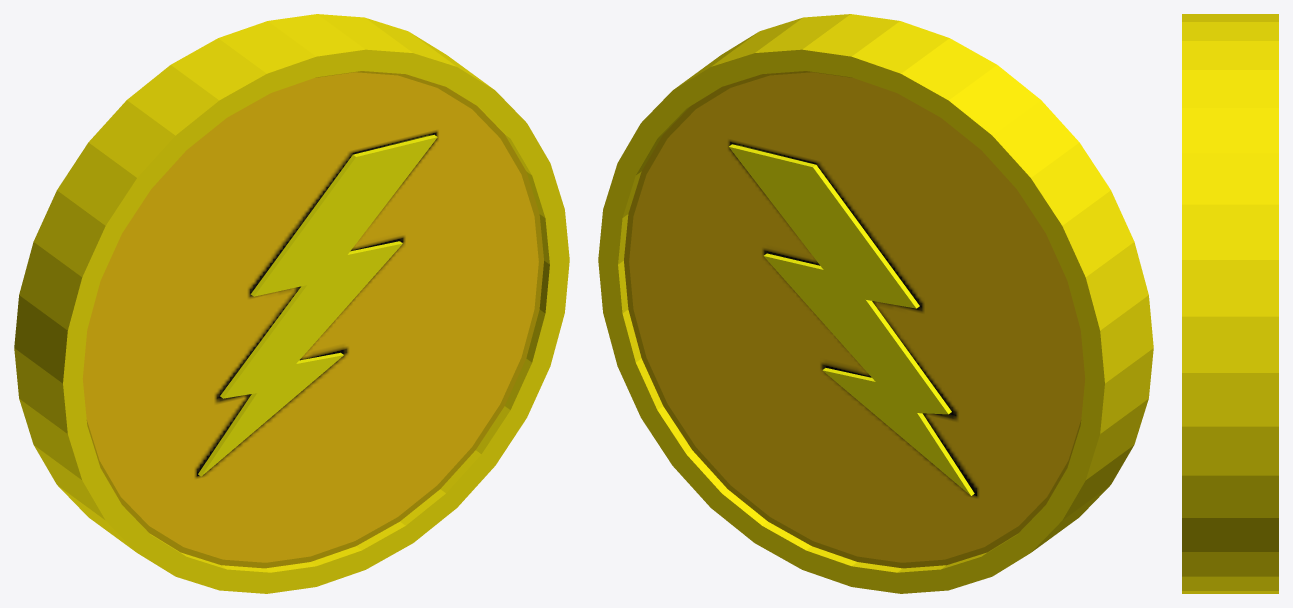
The model's file is fast.fbx.
The picture shows the model from 3 angles, left to right: view 1: azimuth 30°, elevation 25°; view 2: azimuth 150°, elevation 25°; view 3: azimuth 270°, elevation 25°; orthographic projection.
Parts seen in each view (by area): view 1: Cylinder; view 2: Cylinder; view 3: Cylinder.
Boxes of the visible parts, bbox=[...] form: Cylinder: bbox=[14, 14, 569, 593]; Cylinder: bbox=[598, 14, 1153, 593]; Cylinder: bbox=[1182, 14, 1278, 593].
Bounding box in the file's own units: 200 × 200 × 33.32.
Materials: 1 (1 with a texture image).
